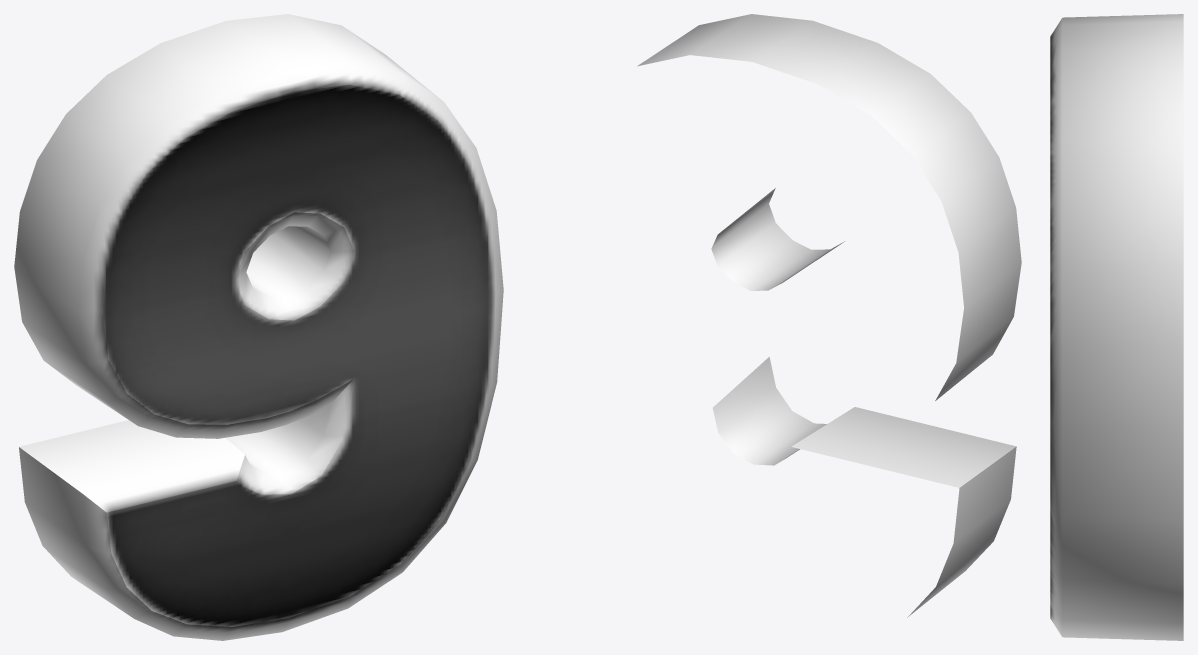
The model's file is bbl_score_model__score_9a.glb.
3 renders of one model, left to right at view 1: azimuth 30°, elevation 25°; view 2: azimuth 150°, elevation 25°; view 3: azimuth 270°, elevation 25°, orthographic.
Parts seen in each view (by area): view 1: polygon1, polygon0; view 2: polygon0; view 3: polygon0.
Part boxes in pixels (x1,y1,x2,y2): polygon1: (102, 85, 491, 626); polygon0: (14, 14, 503, 640); polygon0: (637, 14, 1021, 617); polygon0: (1050, 14, 1183, 640).
Bounding box in the file's own units: 4.1 × 5.16 × 1.1.
Materials: 2 (2 with a texture image).
